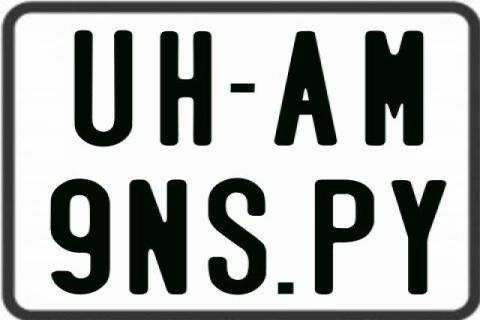0: (47, 176, 107, 293)
A: (271, 31, 336, 148)
H: (157, 32, 212, 146)
M: (365, 30, 427, 148)
N: (128, 180, 192, 298)
P: (313, 177, 378, 292)
S: (206, 178, 270, 300)
U: (71, 30, 134, 146)
Y: (391, 179, 450, 297)
